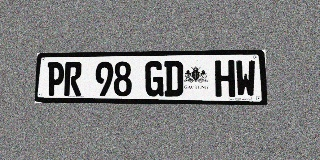8: (113, 61, 132, 96)
9: (95, 61, 113, 96)
D: (164, 61, 183, 97)
G: (145, 61, 164, 96)
H: (215, 60, 235, 97)
P: (46, 62, 64, 96)
R: (64, 62, 82, 96)
W: (235, 60, 256, 97)
